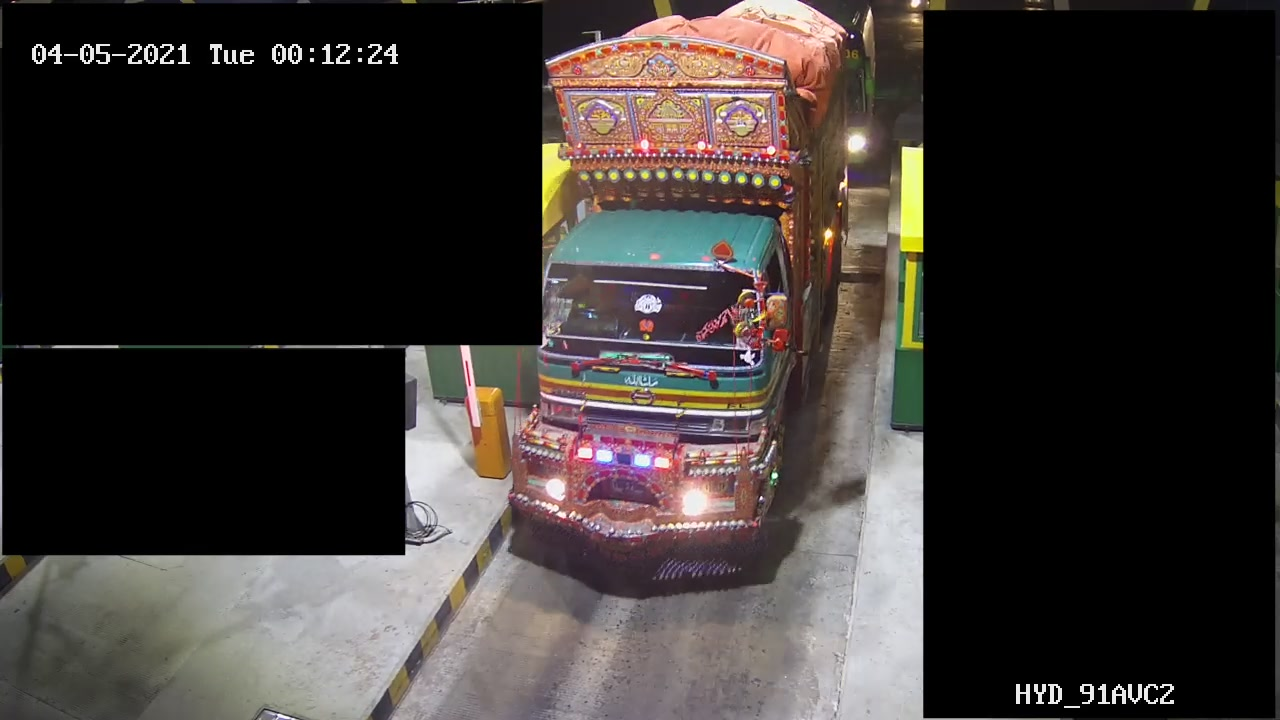F5: (491, 1, 852, 614)
